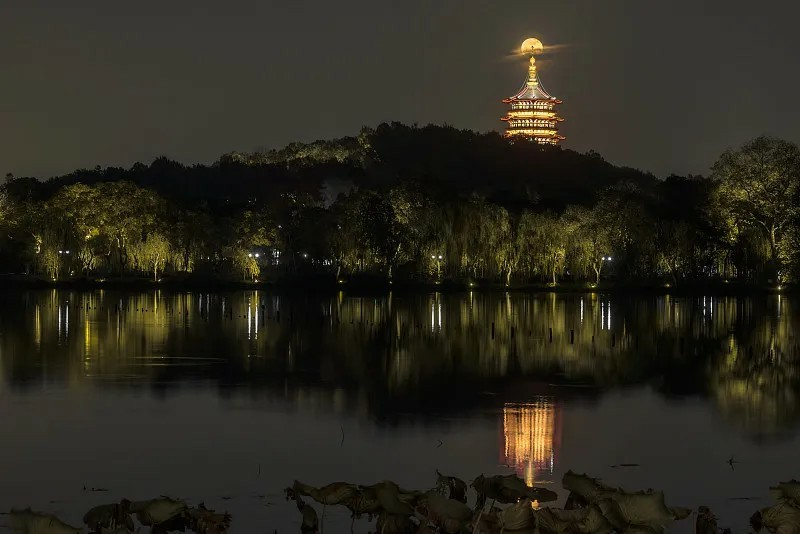Leifeng: (496, 47, 565, 148)
